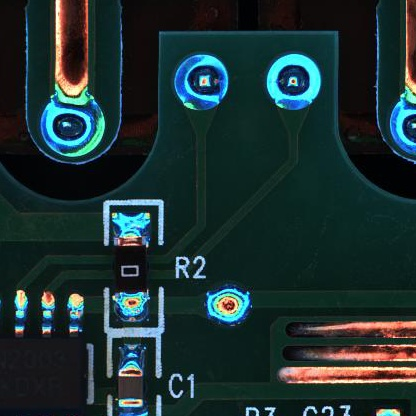spot: (37, 94, 110, 157), (265, 54, 323, 112), (173, 53, 230, 112), (203, 285, 256, 326)
